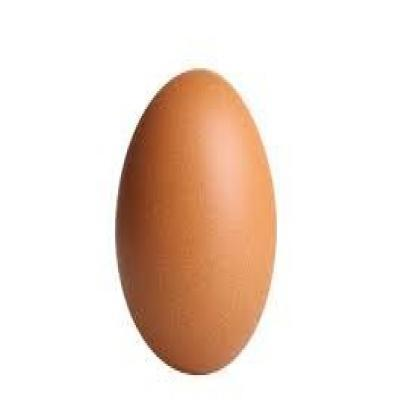egg: (114, 68, 279, 376)
